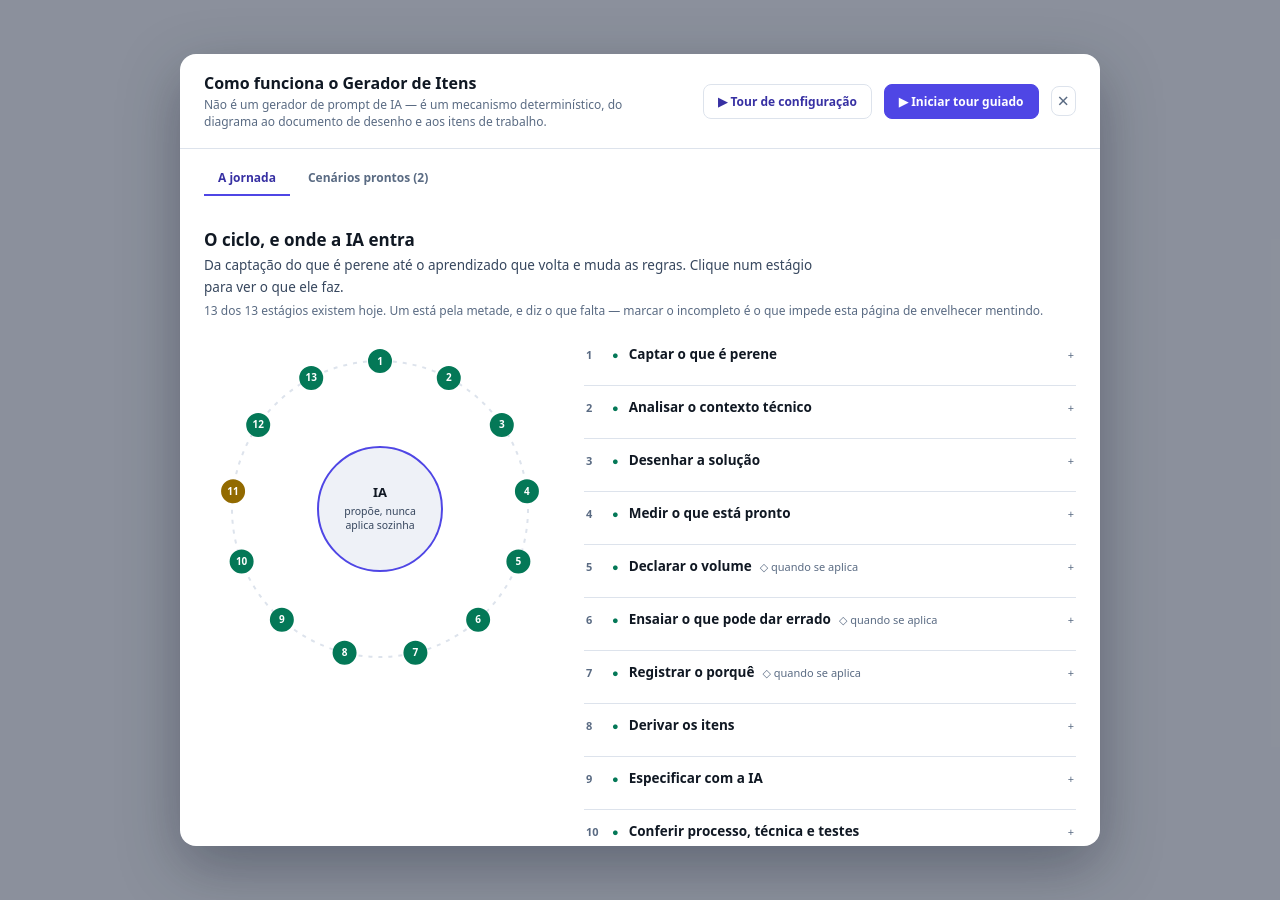
Test: JourneyModal › troca para a aba de cenários e lista todos os cenários recebidos, com categoria e design patterns quando houver
Click the button "Cenários prontos (2)" at (368, 178), box [294, 161, 442, 196]
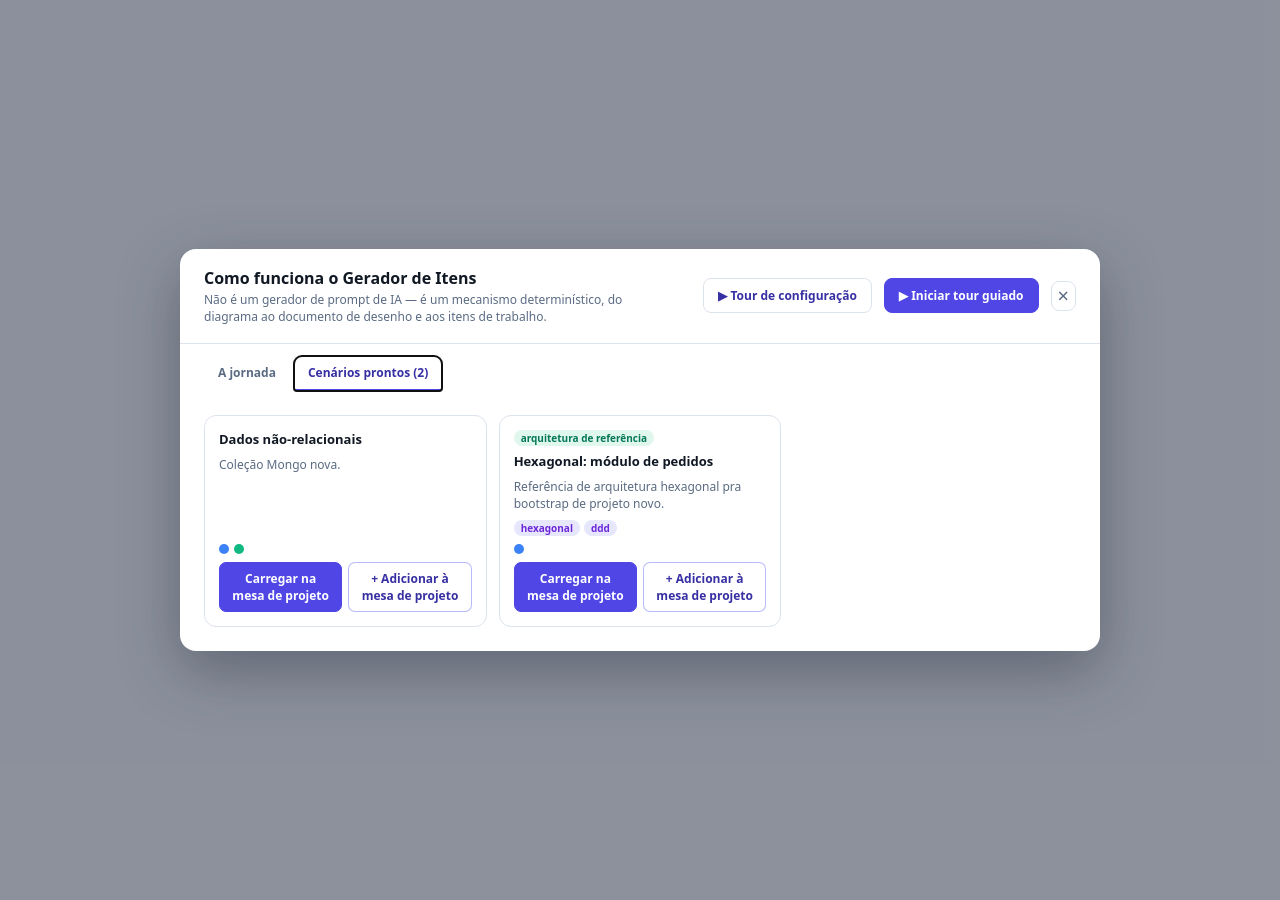
Now the text "Dados não-relacionais" is shown, box [219, 430, 362, 448]
Now the text "Hexagonal: módulo de pedidos" is shown, box [514, 452, 713, 470]
Now the text "arquitetura de referência" is shown, box [514, 430, 654, 446]
